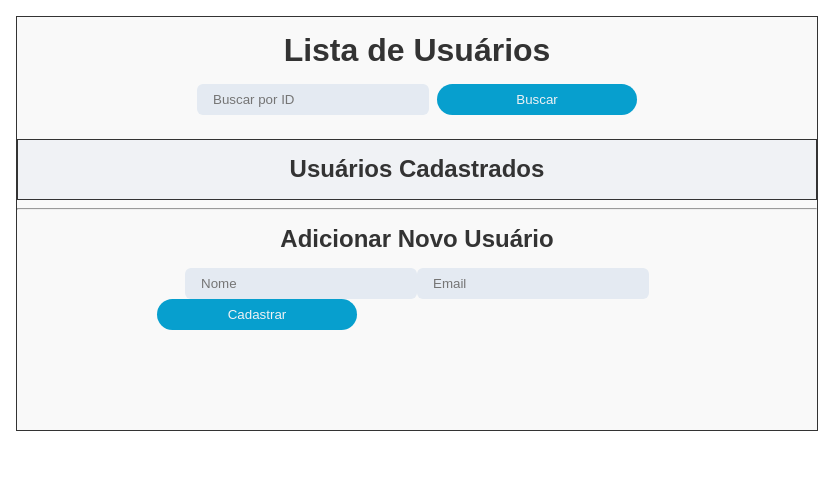
Test: Componente TesteFront › Deve criar um novo usuário ao submeter o formulário (mock POST)
// Simula a Ação do Usuário
Type "Carlos" into the field with placeholder "Nome" at {"x": 301, "y": 284}, box [185, 268, 417, 299]
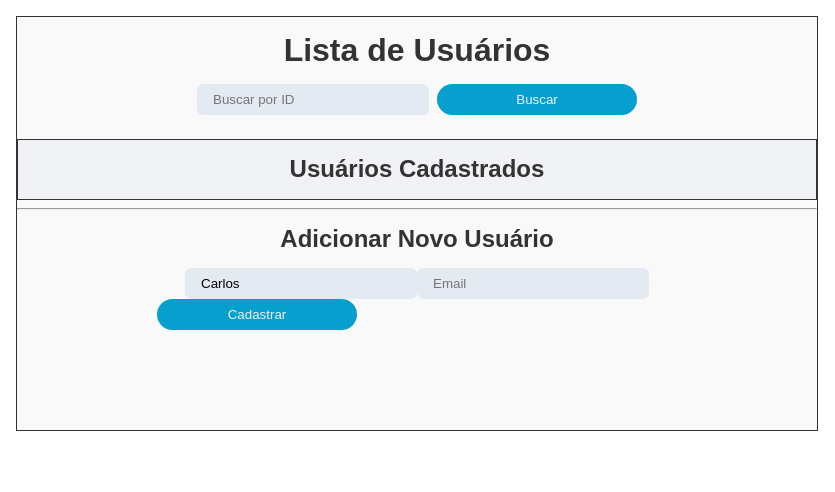
Type "carlos@example.com" into the field with placeholder "Email" at {"x": 533, "y": 284}, box [417, 268, 649, 299]
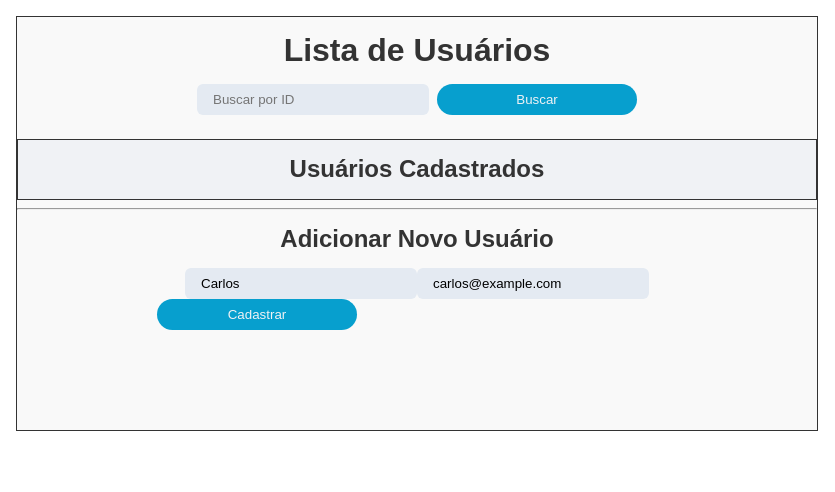
Click the button "Cadastrar" at {"x": 257, "y": 314}, box [157, 299, 357, 330]
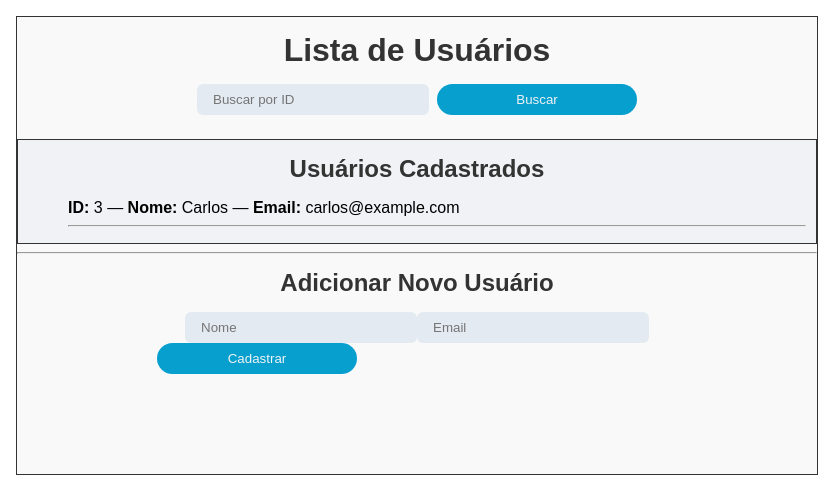
Expected: the list item "ID: 3 — Nome: Carlos — Email: carlos@example.com" is shown, [68, 199, 806, 227]
